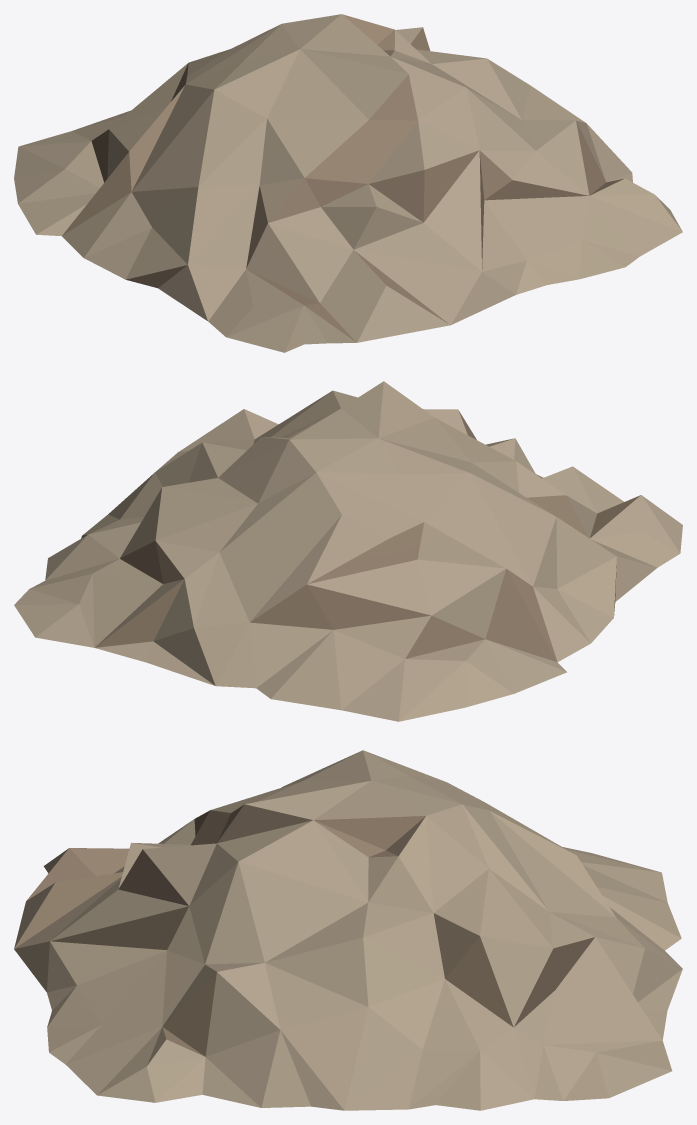
File: SM_Env_GroundMound_Rough_02.glb
The picture shows the model from 3 angles, top to bottom: view 1: azimuth 30°, elevation 25°; view 2: azimuth 150°, elevation 25°; view 3: azimuth 270°, elevation 25°; orthographic projection. The views are drawn at different scales.
Parts seen in each view (by area): view 1: SM_Env_GroundMound_Rough_02; view 2: SM_Env_GroundMound_Rough_02; view 3: SM_Env_GroundMound_Rough_02.
Part boxes in pixels (x1,y1,x2,y2): SM_Env_GroundMound_Rough_02: (14, 14, 682, 352); SM_Env_GroundMound_Rough_02: (14, 381, 682, 721); SM_Env_GroundMound_Rough_02: (14, 750, 682, 1110).
Size of the model in its own units: 0.026 by 0.00771 by 0.0262.
Materials: 1 (1 with a texture image).
